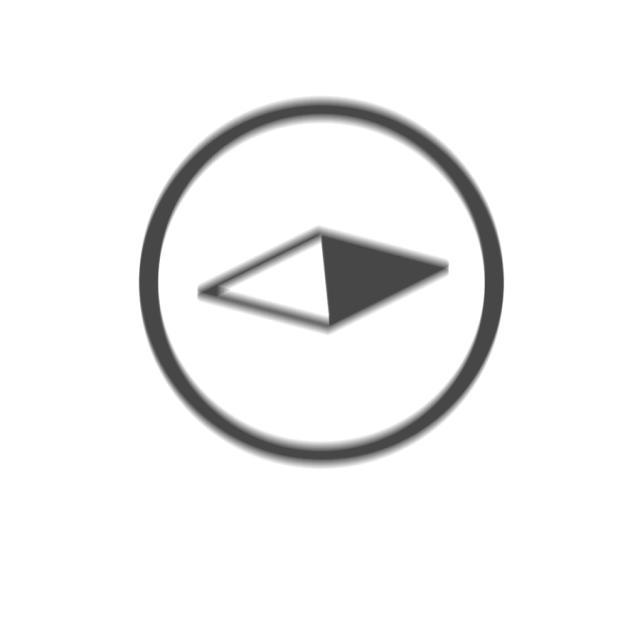compass: (133, 93, 511, 476)
